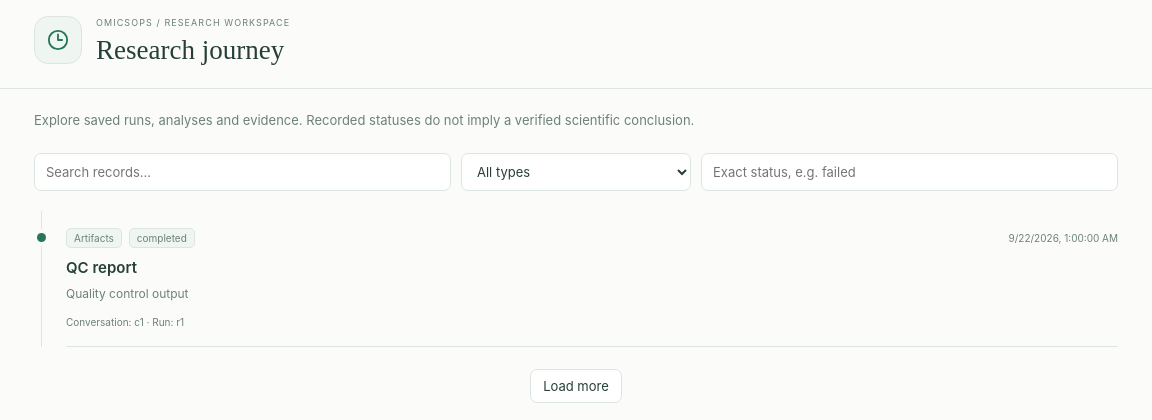
Test case: research journey › requests exact status filtering across the full journey and resets pagination
The image size is (1152, 420).
Expected: the button "QC report Quality control output" is shown, [66,248,1118,313]
Type "failed" into the field named "Record status".
click(910, 172); type("failed")  # box [701,153,1118,191]
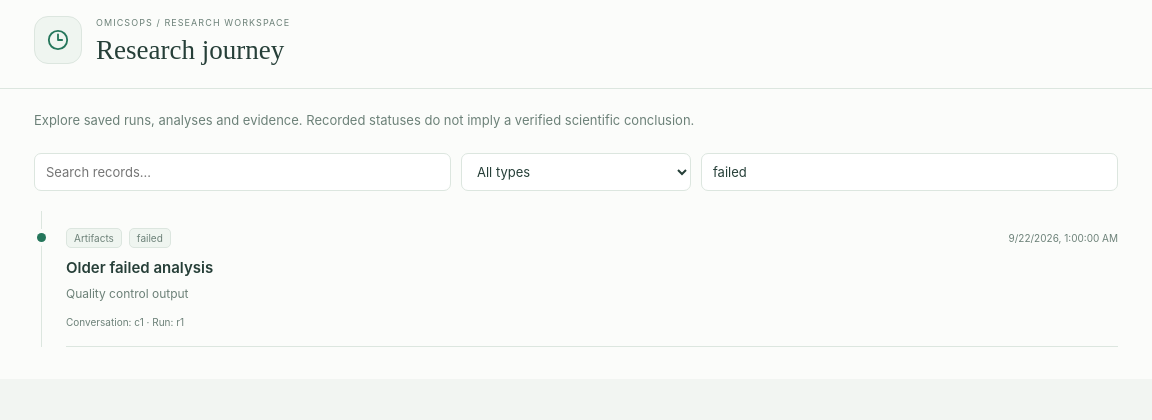
Expected: the button "Older failed analysis Quality control output" is shown, [66,248,1118,313]
Expected: the button "QC report" is gone
Expected: the button "Load more" is gone
